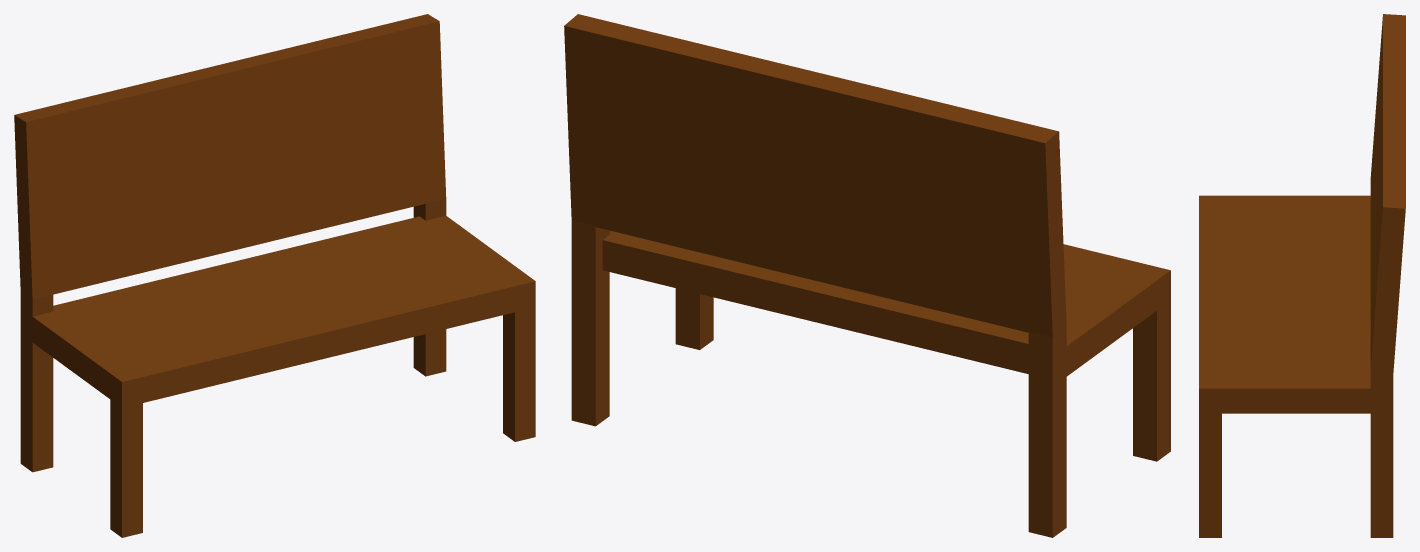
File: benchNL.fbx
The picture shows the model from 3 angles, left to right: view 1: azimuth 30°, elevation 25°; view 2: azimuth 150°, elevation 25°; view 3: azimuth 270°, elevation 25°; orthographic projection. The views are drawn at different scales.
Parts seen in each view (by area): view 1: Cube.005, Cube, Cube.001, Cube.004, Cube.003, Cube.002; view 2: Cube.005, Cube, Cube.001, Cube.002, Cube.004, Cube.003; view 3: Cube, Cube.005, Cube.002, Cube.003.
Part boxes in pixels (box(x1,y1,x2,y2)): Cube.005: box(14, 14, 446, 299); Cube: box(26, 216, 535, 407); Cube.001: box(20, 293, 53, 472); Cube.004: box(110, 400, 142, 537); Cube.003: box(503, 307, 535, 441); Cube.002: box(413, 199, 446, 376); Cube.005: box(564, 14, 1066, 337); Cube: box(602, 230, 1170, 381); Cube.001: box(1028, 327, 1066, 537); Cube.002: box(571, 220, 609, 426); Cube.004: box(1133, 300, 1170, 461); Cube.003: box(675, 288, 713, 349); Cube: box(1199, 195, 1381, 413); Cube.005: box(1370, 14, 1405, 373); Cube.002: box(1370, 372, 1393, 537); Cube.003: box(1199, 413, 1221, 537).
Bounding box in the file's own units: 200 × 160 × 90.41.
